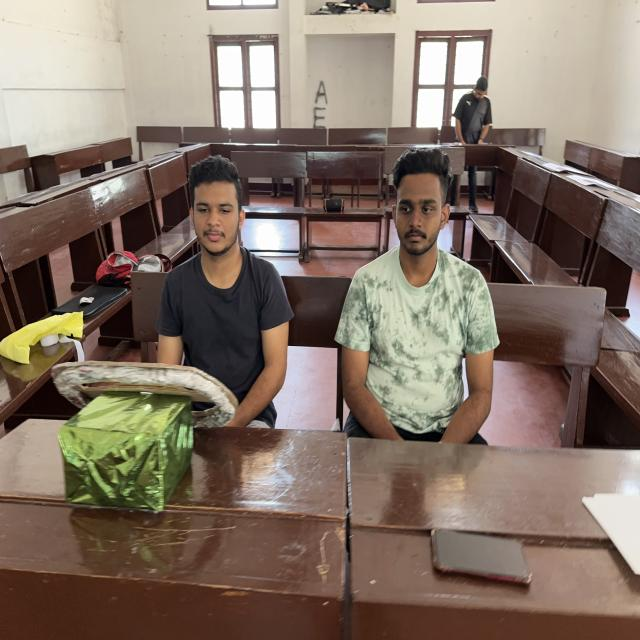Helmet: (338, 245, 503, 466), (155, 250, 292, 454)
